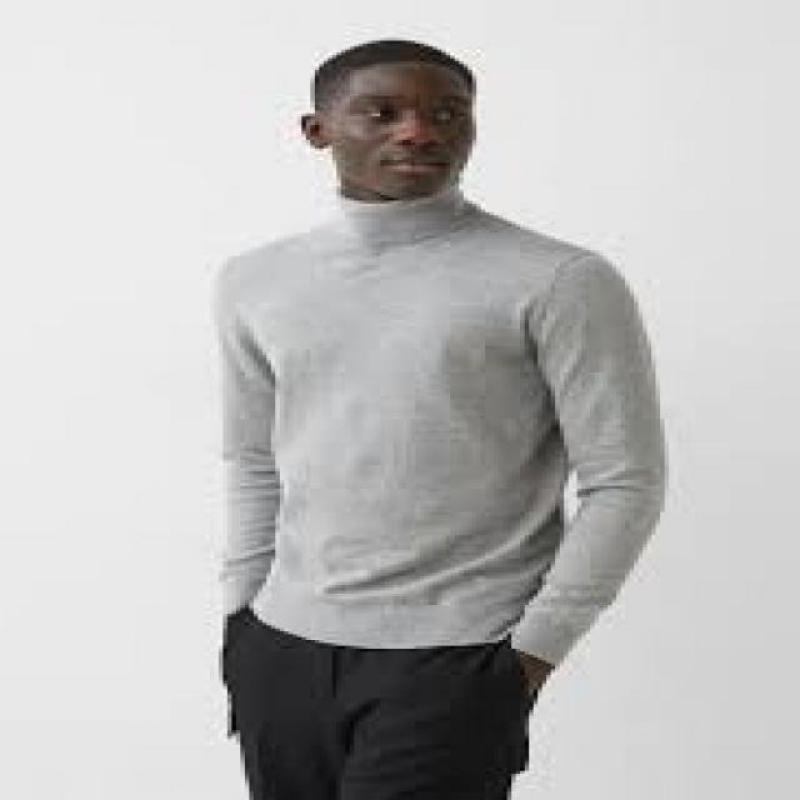sweater: (202, 186, 673, 669)
trousers: (221, 605, 541, 800)
